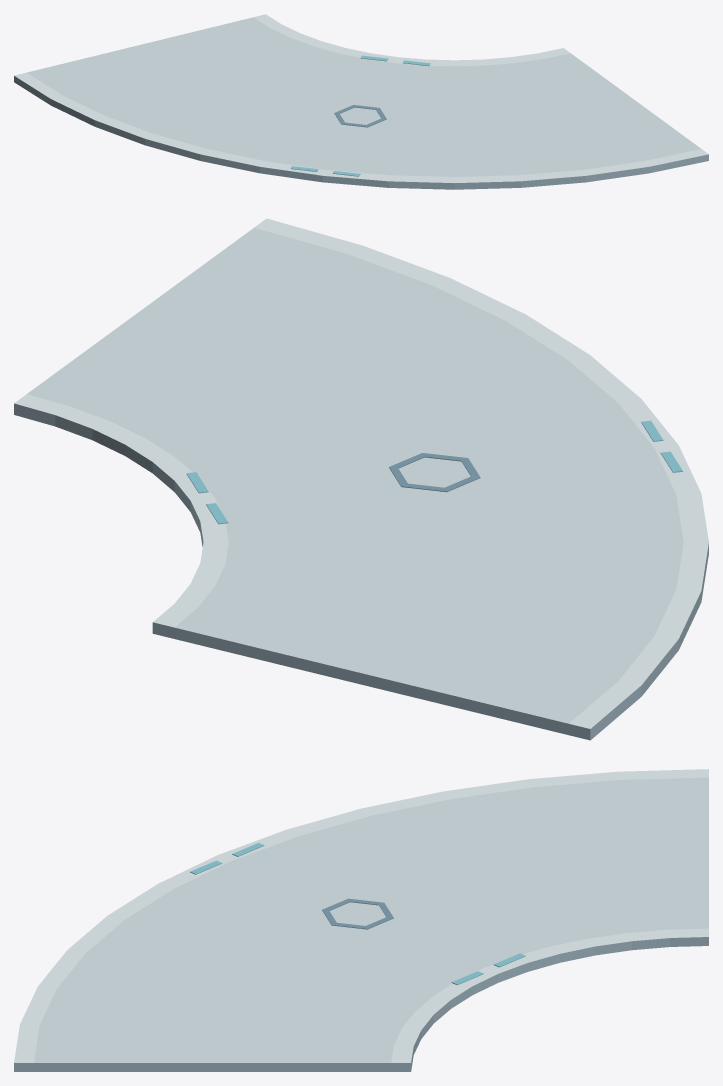
File: campus_walk_bend_v01.glb
3 renders of one model, top to bottom at view 1: azimuth 30°, elevation 25°; view 2: azimuth 150°, elevation 25°; view 3: azimuth 270°, elevation 25°, orthographic. The views are drawn at different scales.
Parts seen in each view (by area): view 1: campus_walk_bend; view 2: campus_walk_bend; view 3: campus_walk_bend.
Boxes of the visible parts, <box> form: campus_walk_bend: <box>14,14,708,189</box>; campus_walk_bend: <box>14,218,708,740</box>; campus_walk_bend: <box>14,769,708,1071</box>.
Bounding box in the file's own units: 5.6 × 0.087 × 5.6.
1 material, 1 textured.
